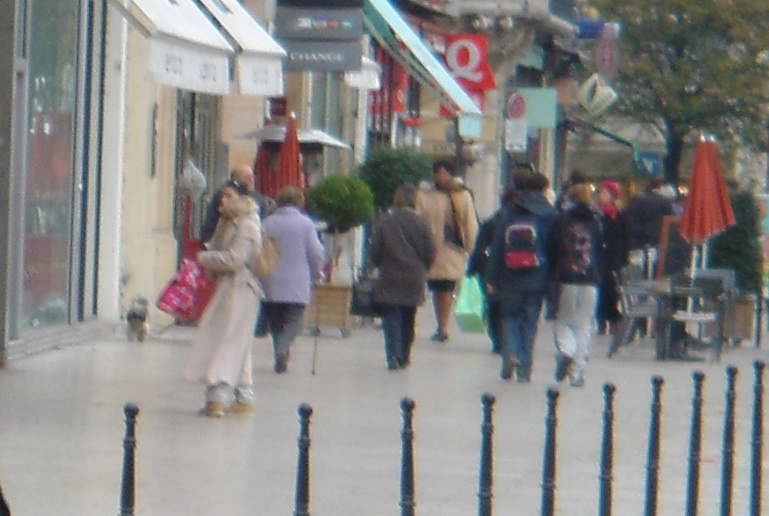person: (194, 176, 256, 418), (492, 170, 558, 382), (372, 181, 433, 368), (550, 181, 605, 384), (419, 159, 475, 344), (262, 182, 314, 375)
